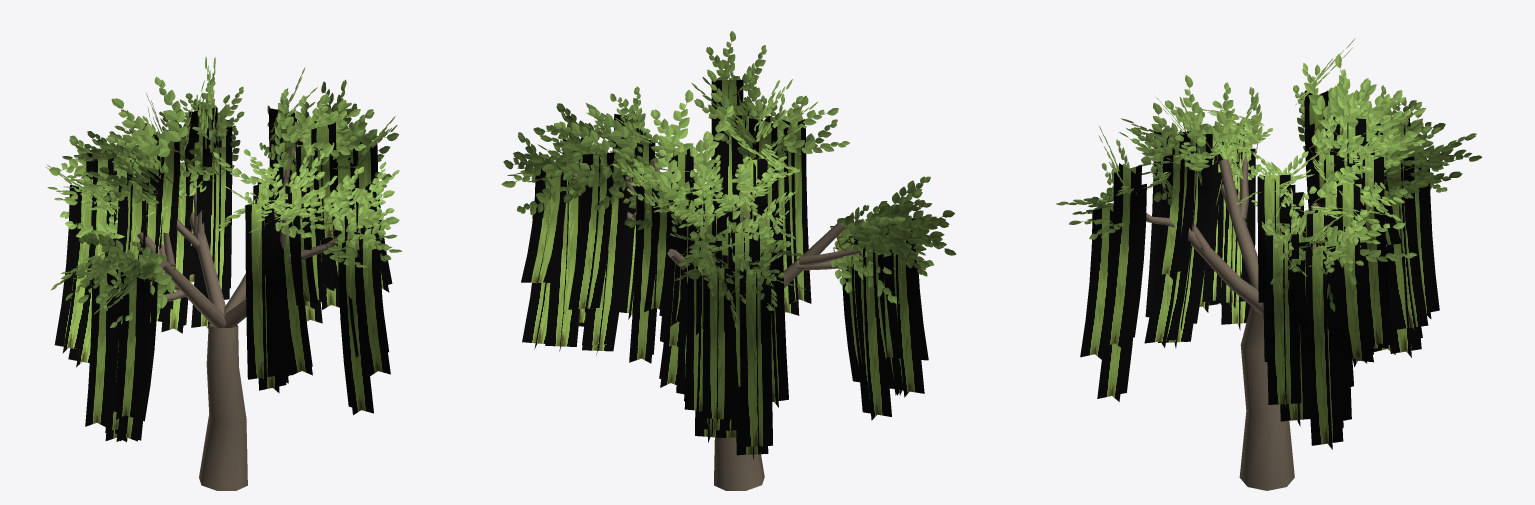
The model's file is willow_1_mid.glb.
The picture shows the model from 3 angles, left to right: view 1: azimuth 30°, elevation 25°; view 2: azimuth 150°, elevation 25°; view 3: azimuth 270°, elevation 25°; orthographic projection. The views are drawn at different scales.
Parts seen in each view (by area): view 1: willow_1_mid; view 2: willow_1_mid; view 3: willow_1_mid.
Boxes of the visible parts, left/top/right/bottom form: willow_1_mid: left=45, top=56, right=402, bottom=490; willow_1_mid: left=501, top=31, right=956, bottom=490; willow_1_mid: left=1056, top=38, right=1482, bottom=490.
Size of the model in its own units: 9.47 by 9.14 by 9.13.
Materials: 3 (2 with a texture image).
